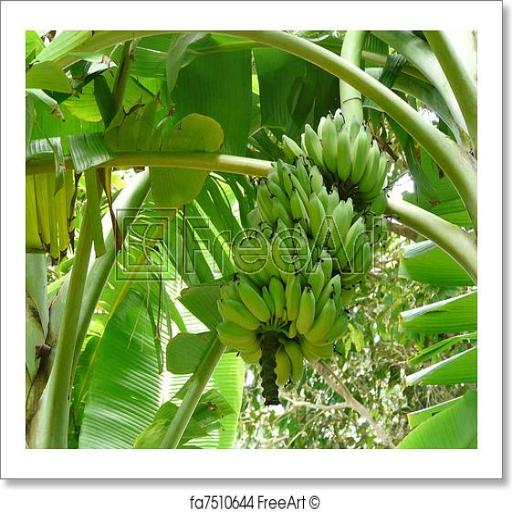banana-unripe: (178, 93, 398, 422)
